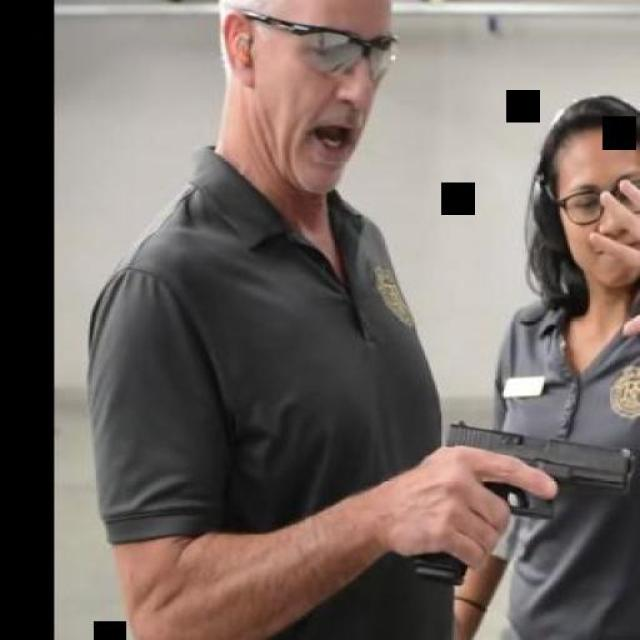gun: (406, 420, 639, 584)
